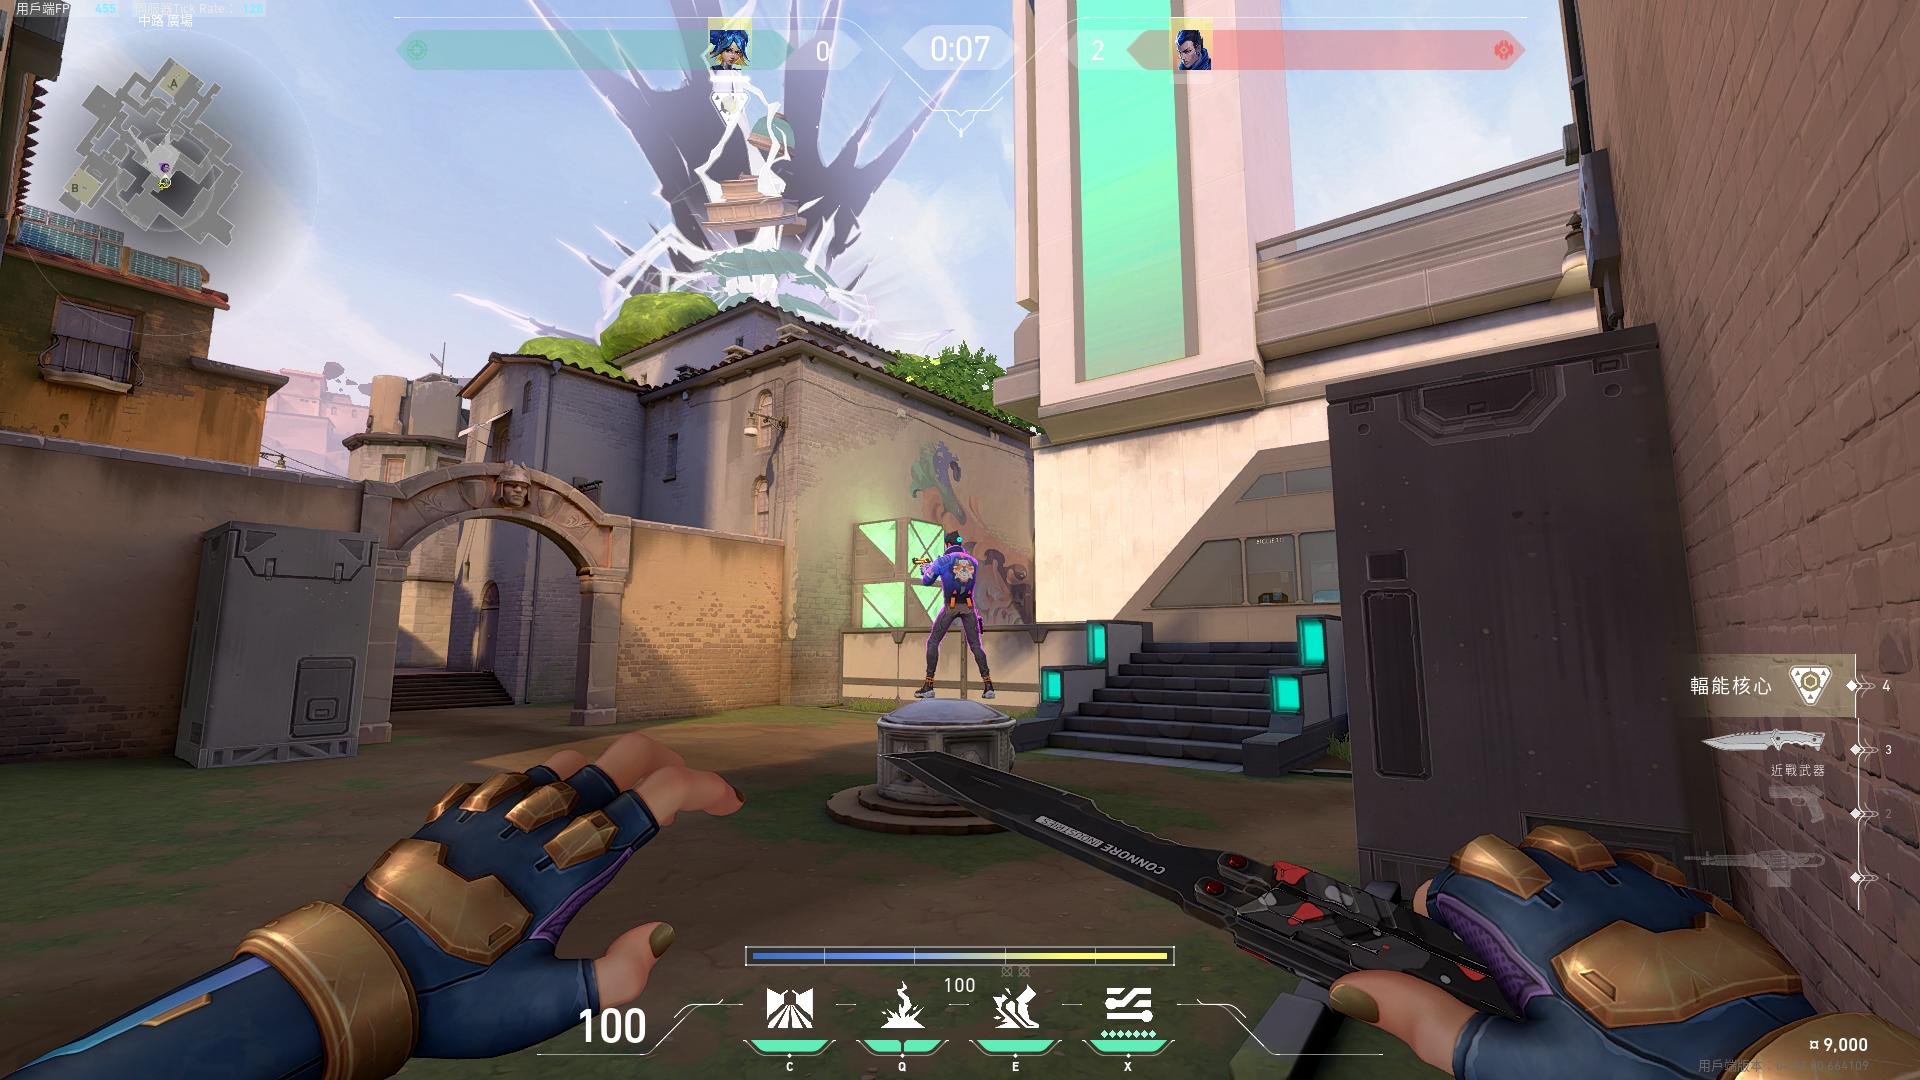enemyBody: (943, 555, 975, 596)
enemyHead: (945, 535, 960, 549)
